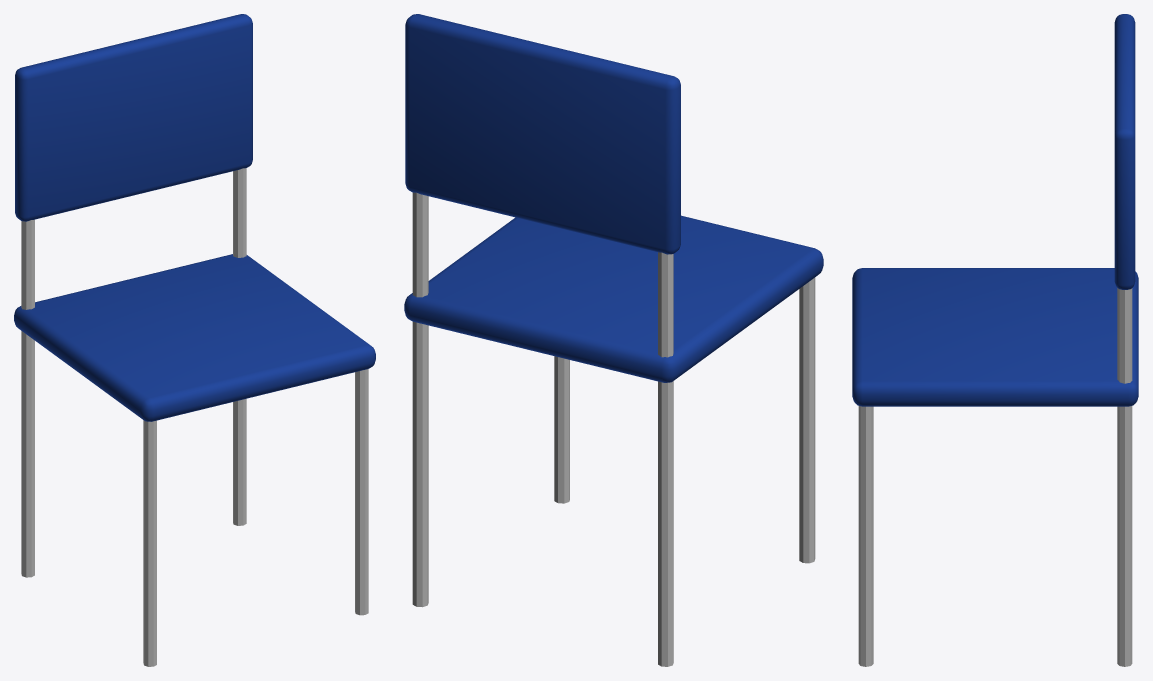
File: furniture.seat.stacking_chair.glb
The picture shows the model from 3 angles, left to right: view 1: azimuth 30°, elevation 25°; view 2: azimuth 150°, elevation 25°; view 3: azimuth 270°, elevation 25°; orthographic projection. The views are drawn at different scales.
Parts seen in each view (by area): view 1: main__plastic_blue, main__steel_stainless; view 2: main__plastic_blue, main__steel_stainless; view 3: main__plastic_blue, main__steel_stainless.
Boxes of the visible parts, left/top/right/bottom form: main__plastic_blue: left=14, top=14, right=375, bottom=421; main__steel_stainless: left=21, top=168, right=368, bottom=666; main__plastic_blue: left=404, top=14, right=823, bottom=382; main__steel_stainless: left=412, top=192, right=815, bottom=666; main__plastic_blue: left=852, top=14, right=1138, bottom=406; main__steel_stainless: left=858, top=288, right=1132, bottom=666.
Bounding box in the file's own units: 0.42 × 0.87 × 0.42.
